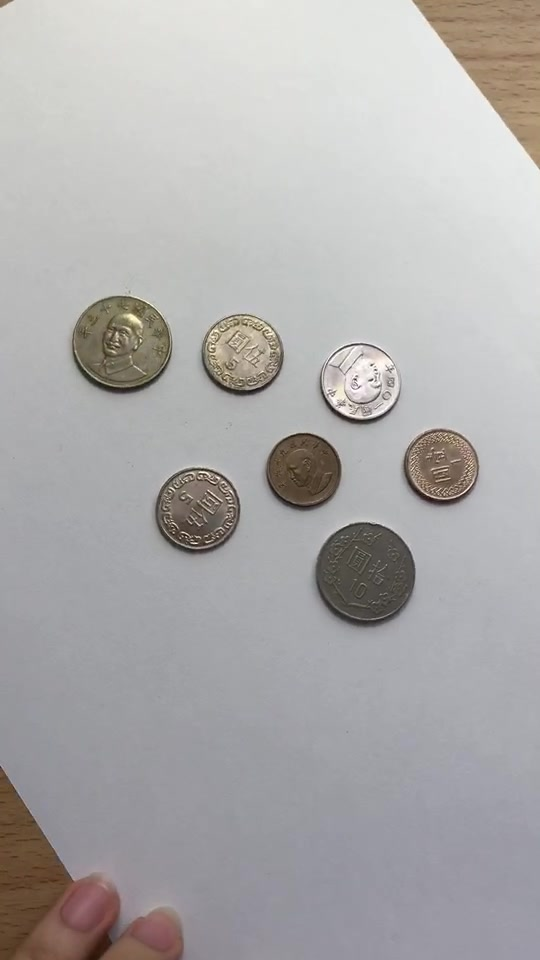1 dallar: (254, 421, 351, 513), (393, 423, 490, 515)
10 dallar: (65, 289, 181, 404), (311, 517, 427, 632)
5 dallar: (142, 459, 249, 557), (183, 309, 290, 407), (312, 327, 419, 425)
